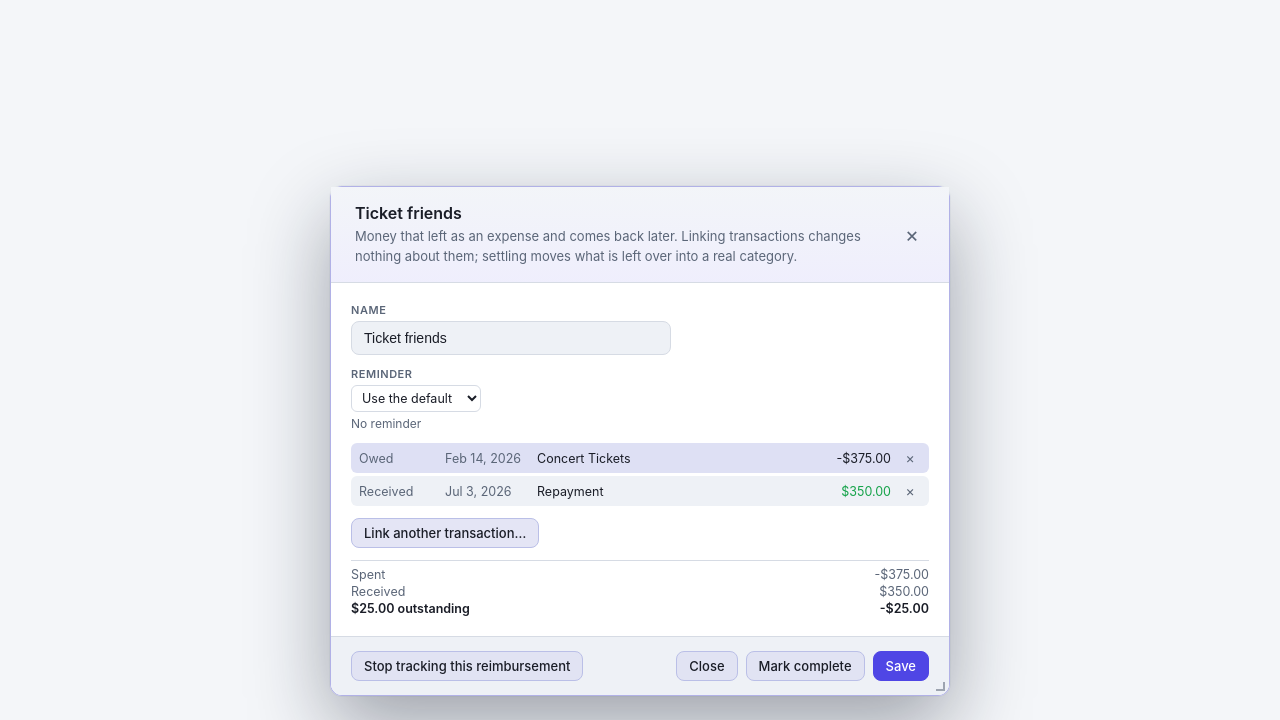
portions of a transaction › offers a divided candidate row one entry per portion when linking
What coordinates should you click on to do the following:
click the button "Link another transaction…"
I would click on:
 (445, 533)
Its box is [351,518,539,548].
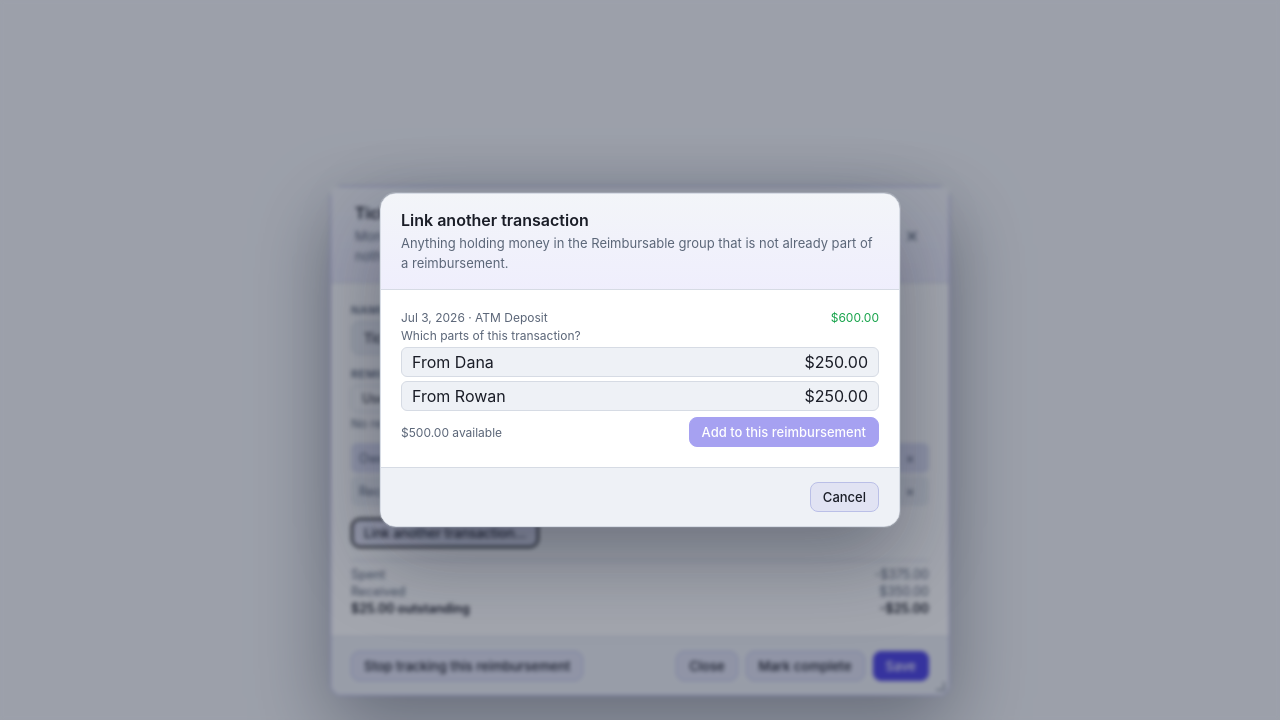
Expected: the button "From Dana $250.00" is shown, [401,347,879,377]
Expected: the button "From Rowan $250.00" is shown, [401,381,879,411]
